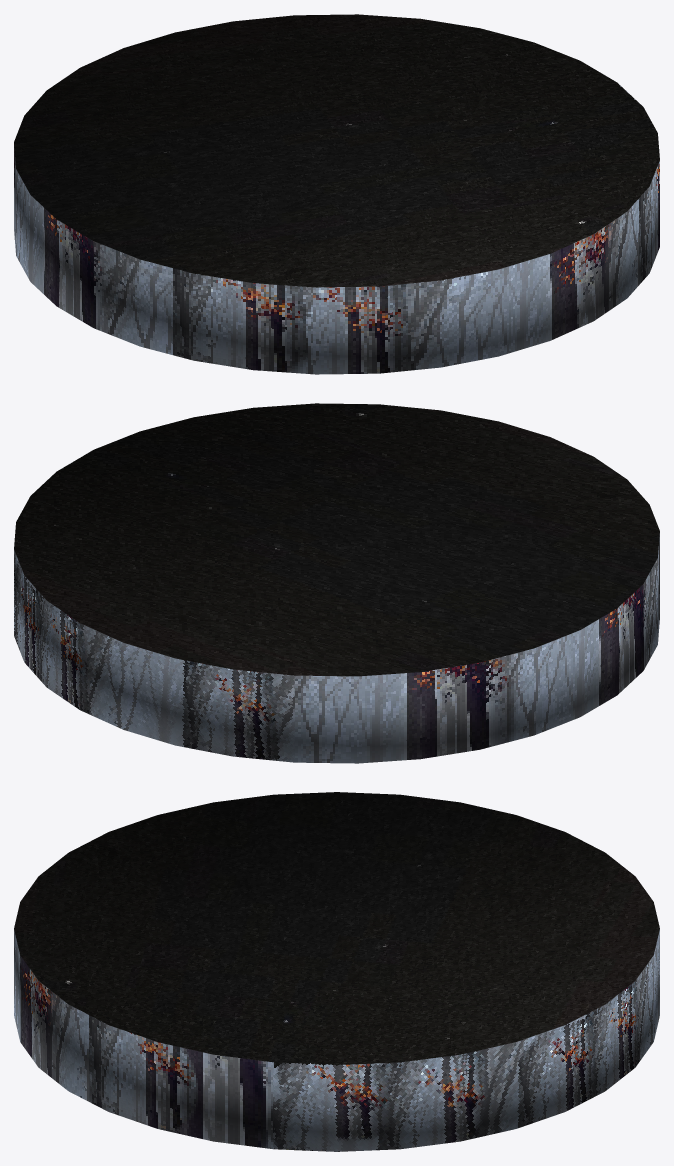
The model's file is skybox.glb.
3 renders of one model, top to bottom at view 1: azimuth 30°, elevation 25°; view 2: azimuth 150°, elevation 25°; view 3: azimuth 270°, elevation 25°, orthographic.
Parts seen in each view (by area): view 1: Skybox; view 2: Skybox; view 3: Skybox.
Boxes of the visible parts, <box> form: Skybox: <box>14,14,659,374</box>; Skybox: <box>14,403,659,763</box>; Skybox: <box>14,792,659,1151</box>.
Size of the model in its own units: 39.47 by 5.86 by 39.47.
Materials: 1 (1 with a texture image).
